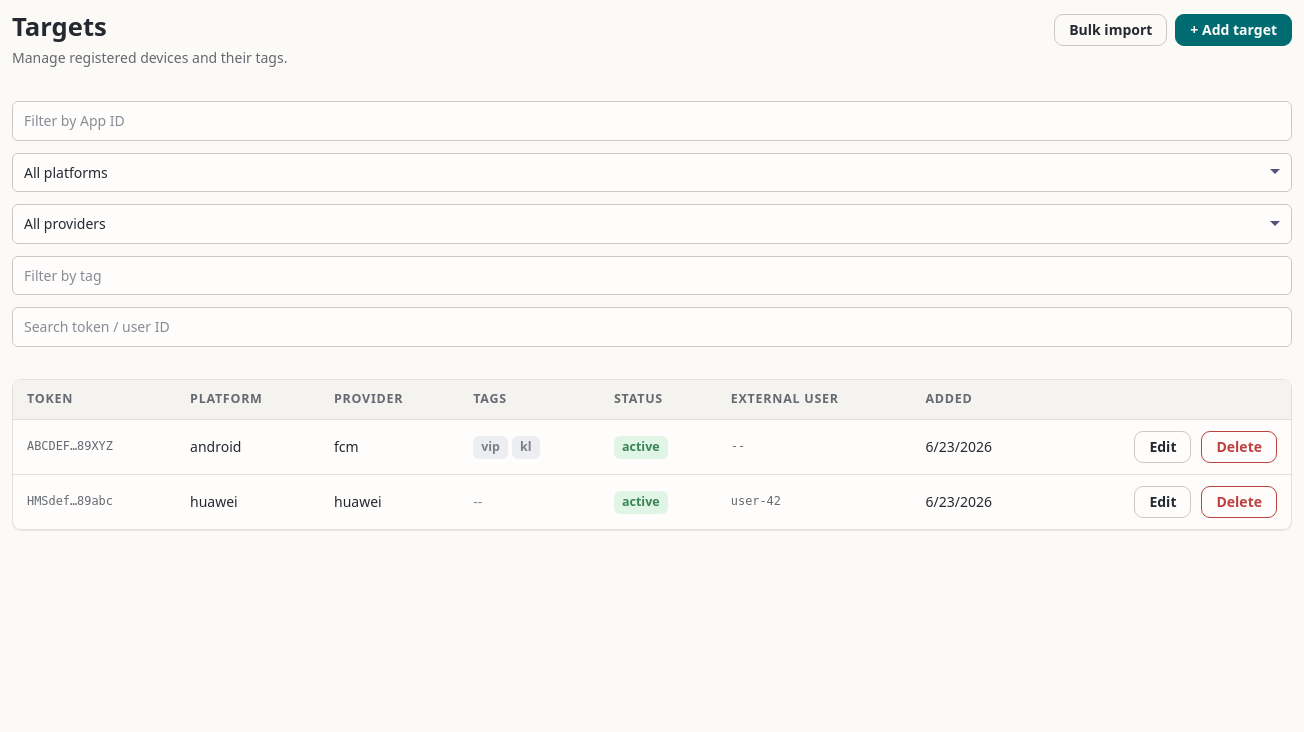
Test: targets page › reveals an inline tag-edit form when Edit is clicked
This screenshot has width=1304, height=732.
Click the button with test id "edit-device-btn" in the row of "ABCDEF…89XYZ" at (1163, 447), box [1134,431,1192,463]
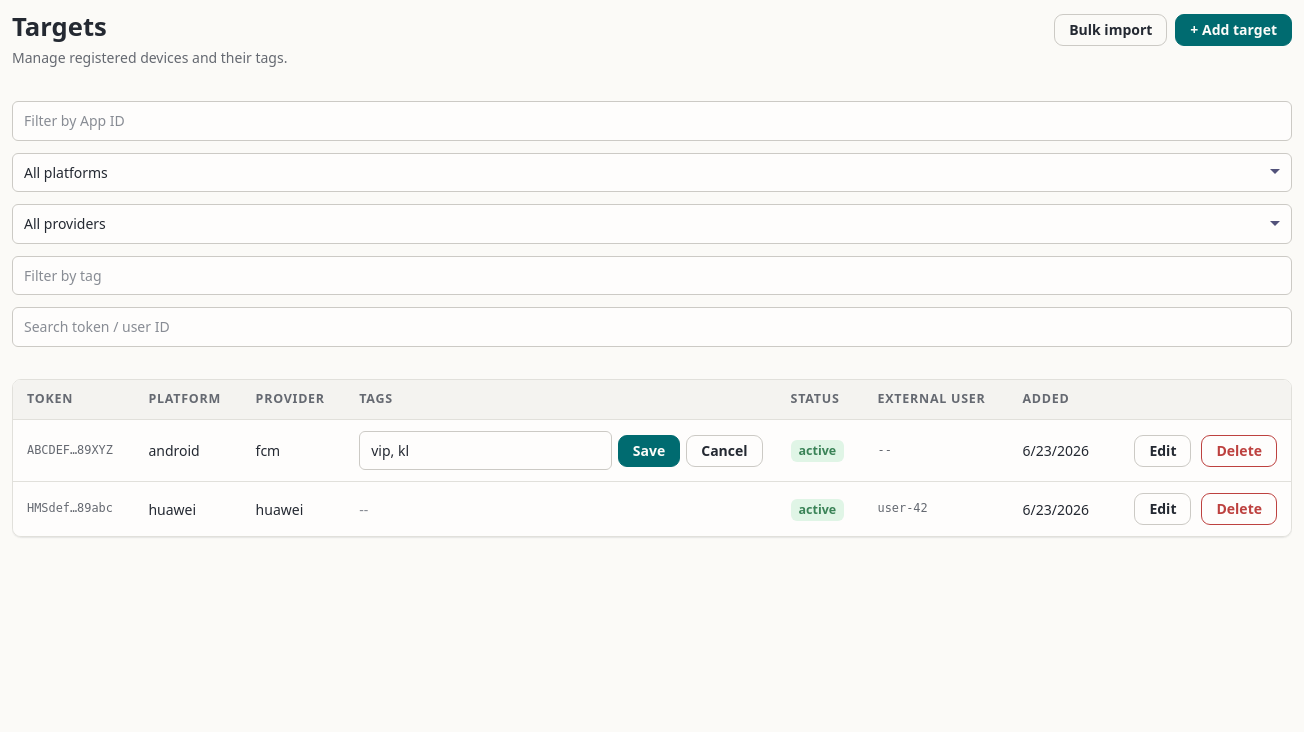
Expected: the field with test id "edit-tags-input" is shown, [359,431,612,470]
Expected: the button with test id "save-tags-btn" is shown, [618,435,680,467]
